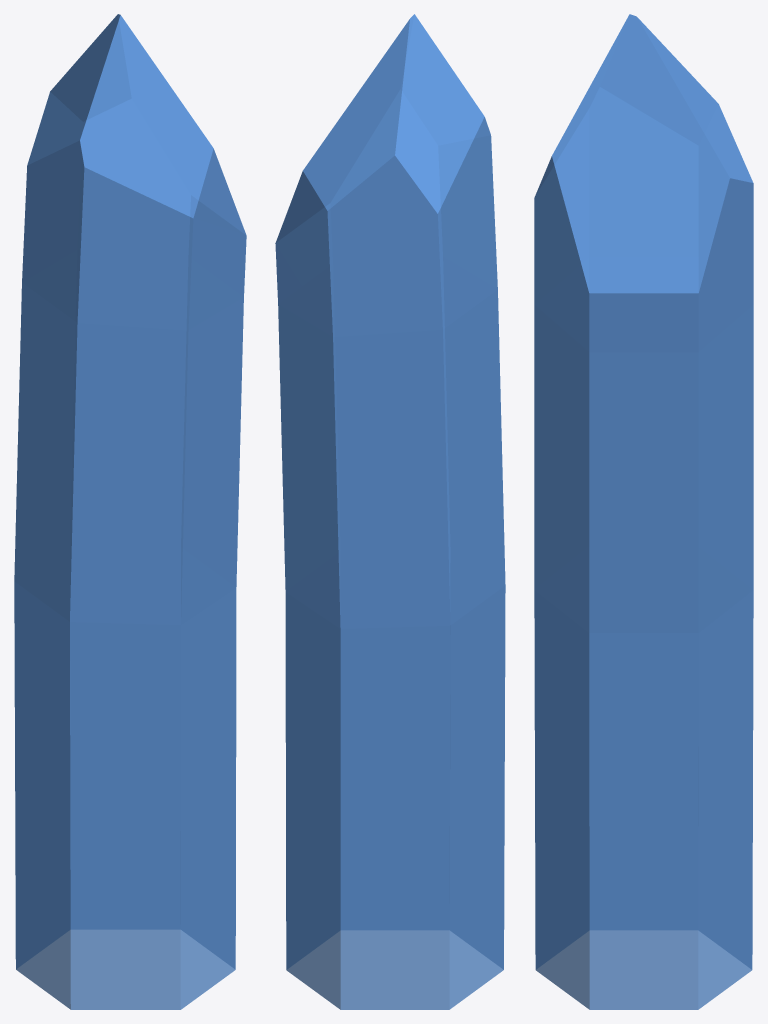
Rendered from Crystal_m_04 2.fbx.
The picture shows the model from 3 angles, left to right: view 1: azimuth 30°, elevation 25°; view 2: azimuth 150°, elevation 25°; view 3: azimuth 270°, elevation 25°; orthographic projection.
Parts seen in each view (by area): view 1: Crystal_m_04; view 2: Crystal_m_04; view 3: Crystal_m_04.
Boxes of the visible parts, bbox=[...] form: Crystal_m_04: bbox=[14, 14, 246, 1009]; Crystal_m_04: bbox=[275, 14, 505, 1009]; Crystal_m_04: bbox=[534, 14, 753, 1009].
Size of the model in its own units: 40.14 by 209 by 43.7.
